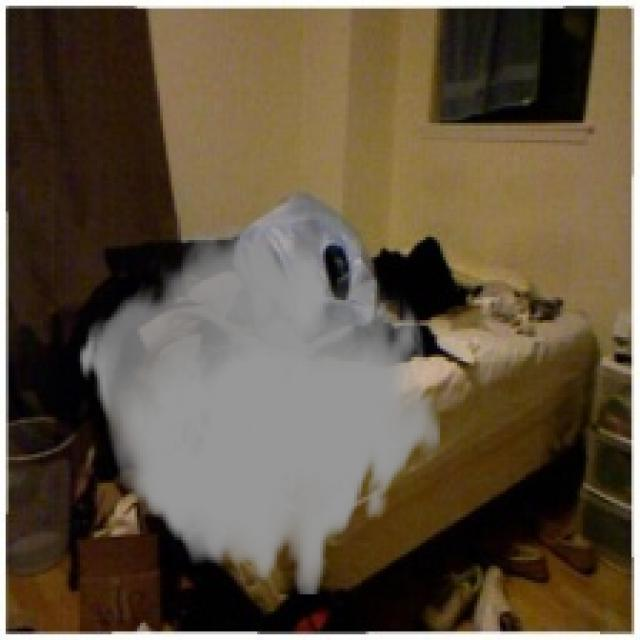smoke: (77, 226, 443, 594)
